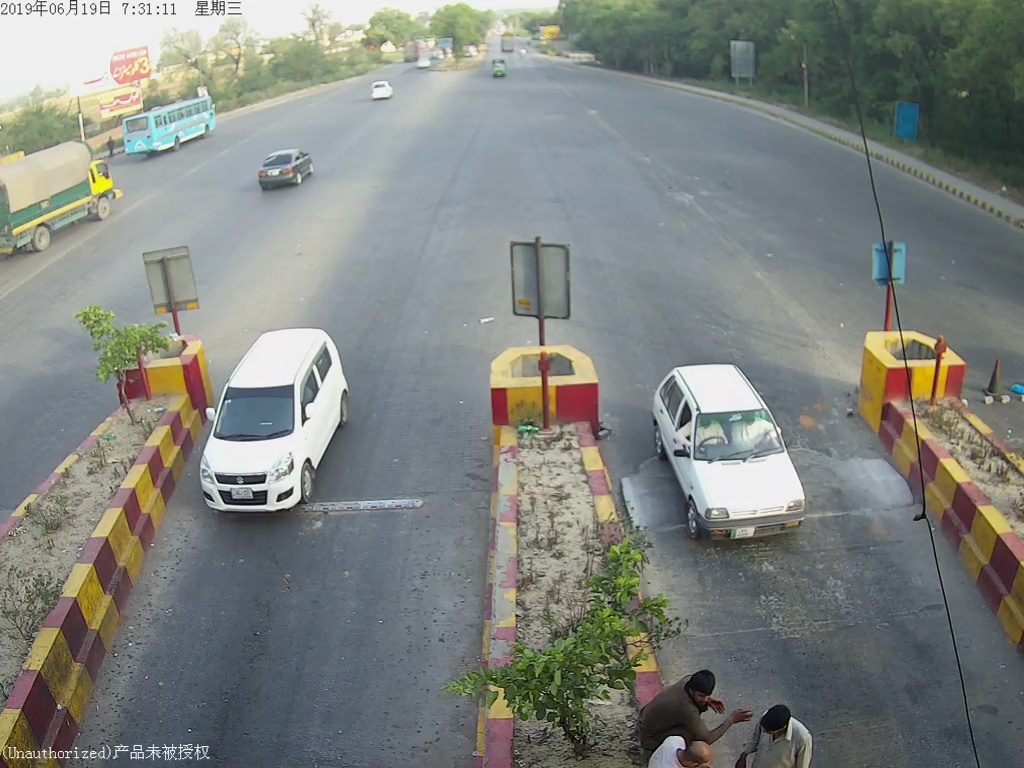Cat-1: (643, 361, 822, 546), (204, 315, 353, 525)
